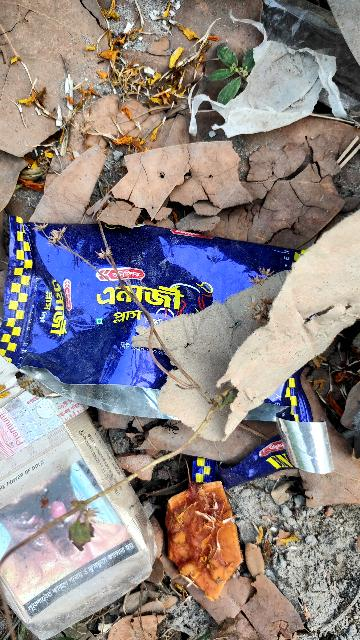packet: (7, 212, 323, 416)
